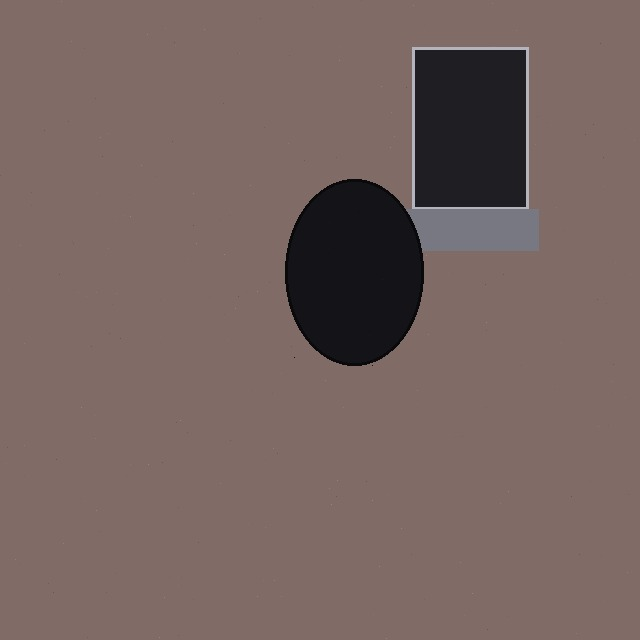laptop: (412, 47, 528, 250)
pothole: (285, 179, 423, 365)
